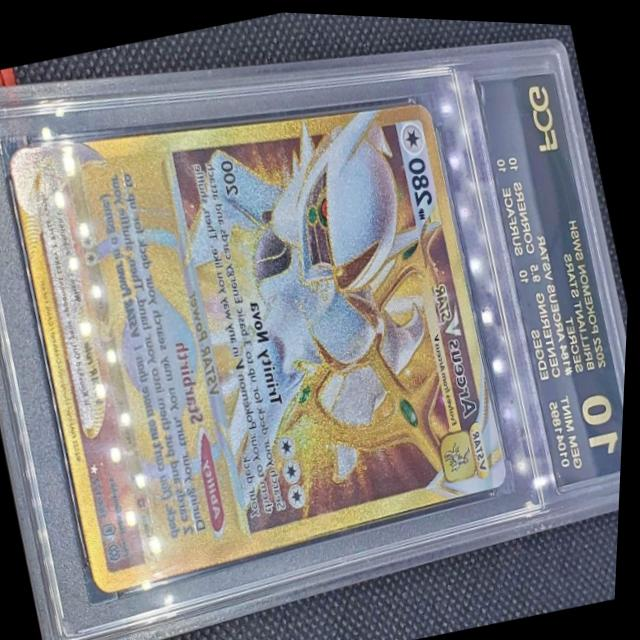card: (8, 99, 509, 592)
